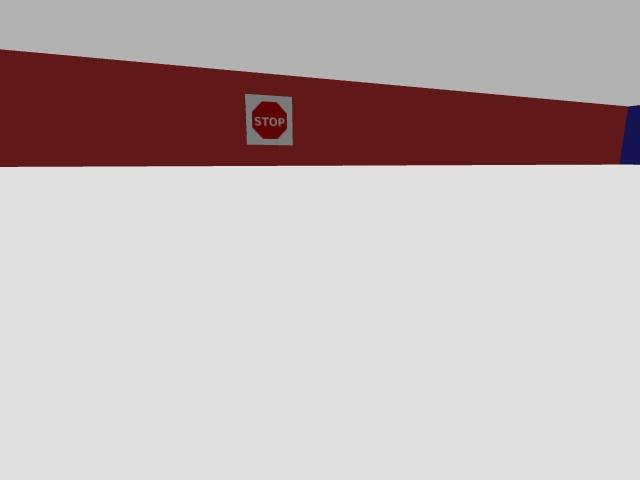stop: (245, 94, 292, 145)
